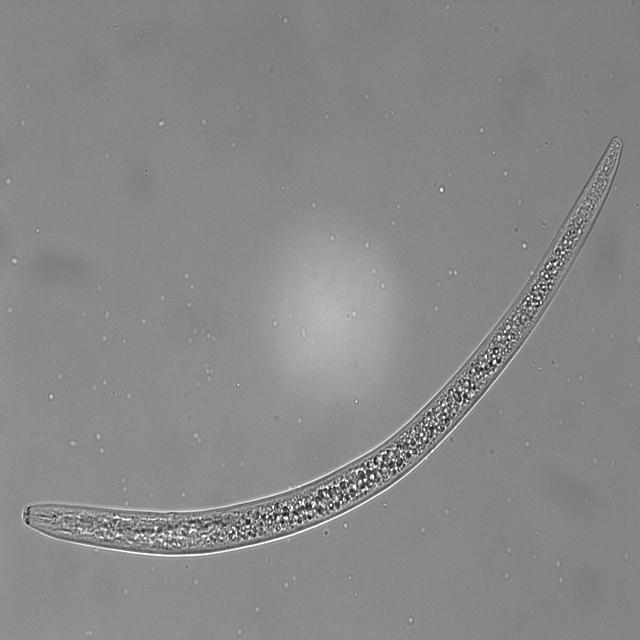Pratylenchus: (18, 132, 629, 559)
